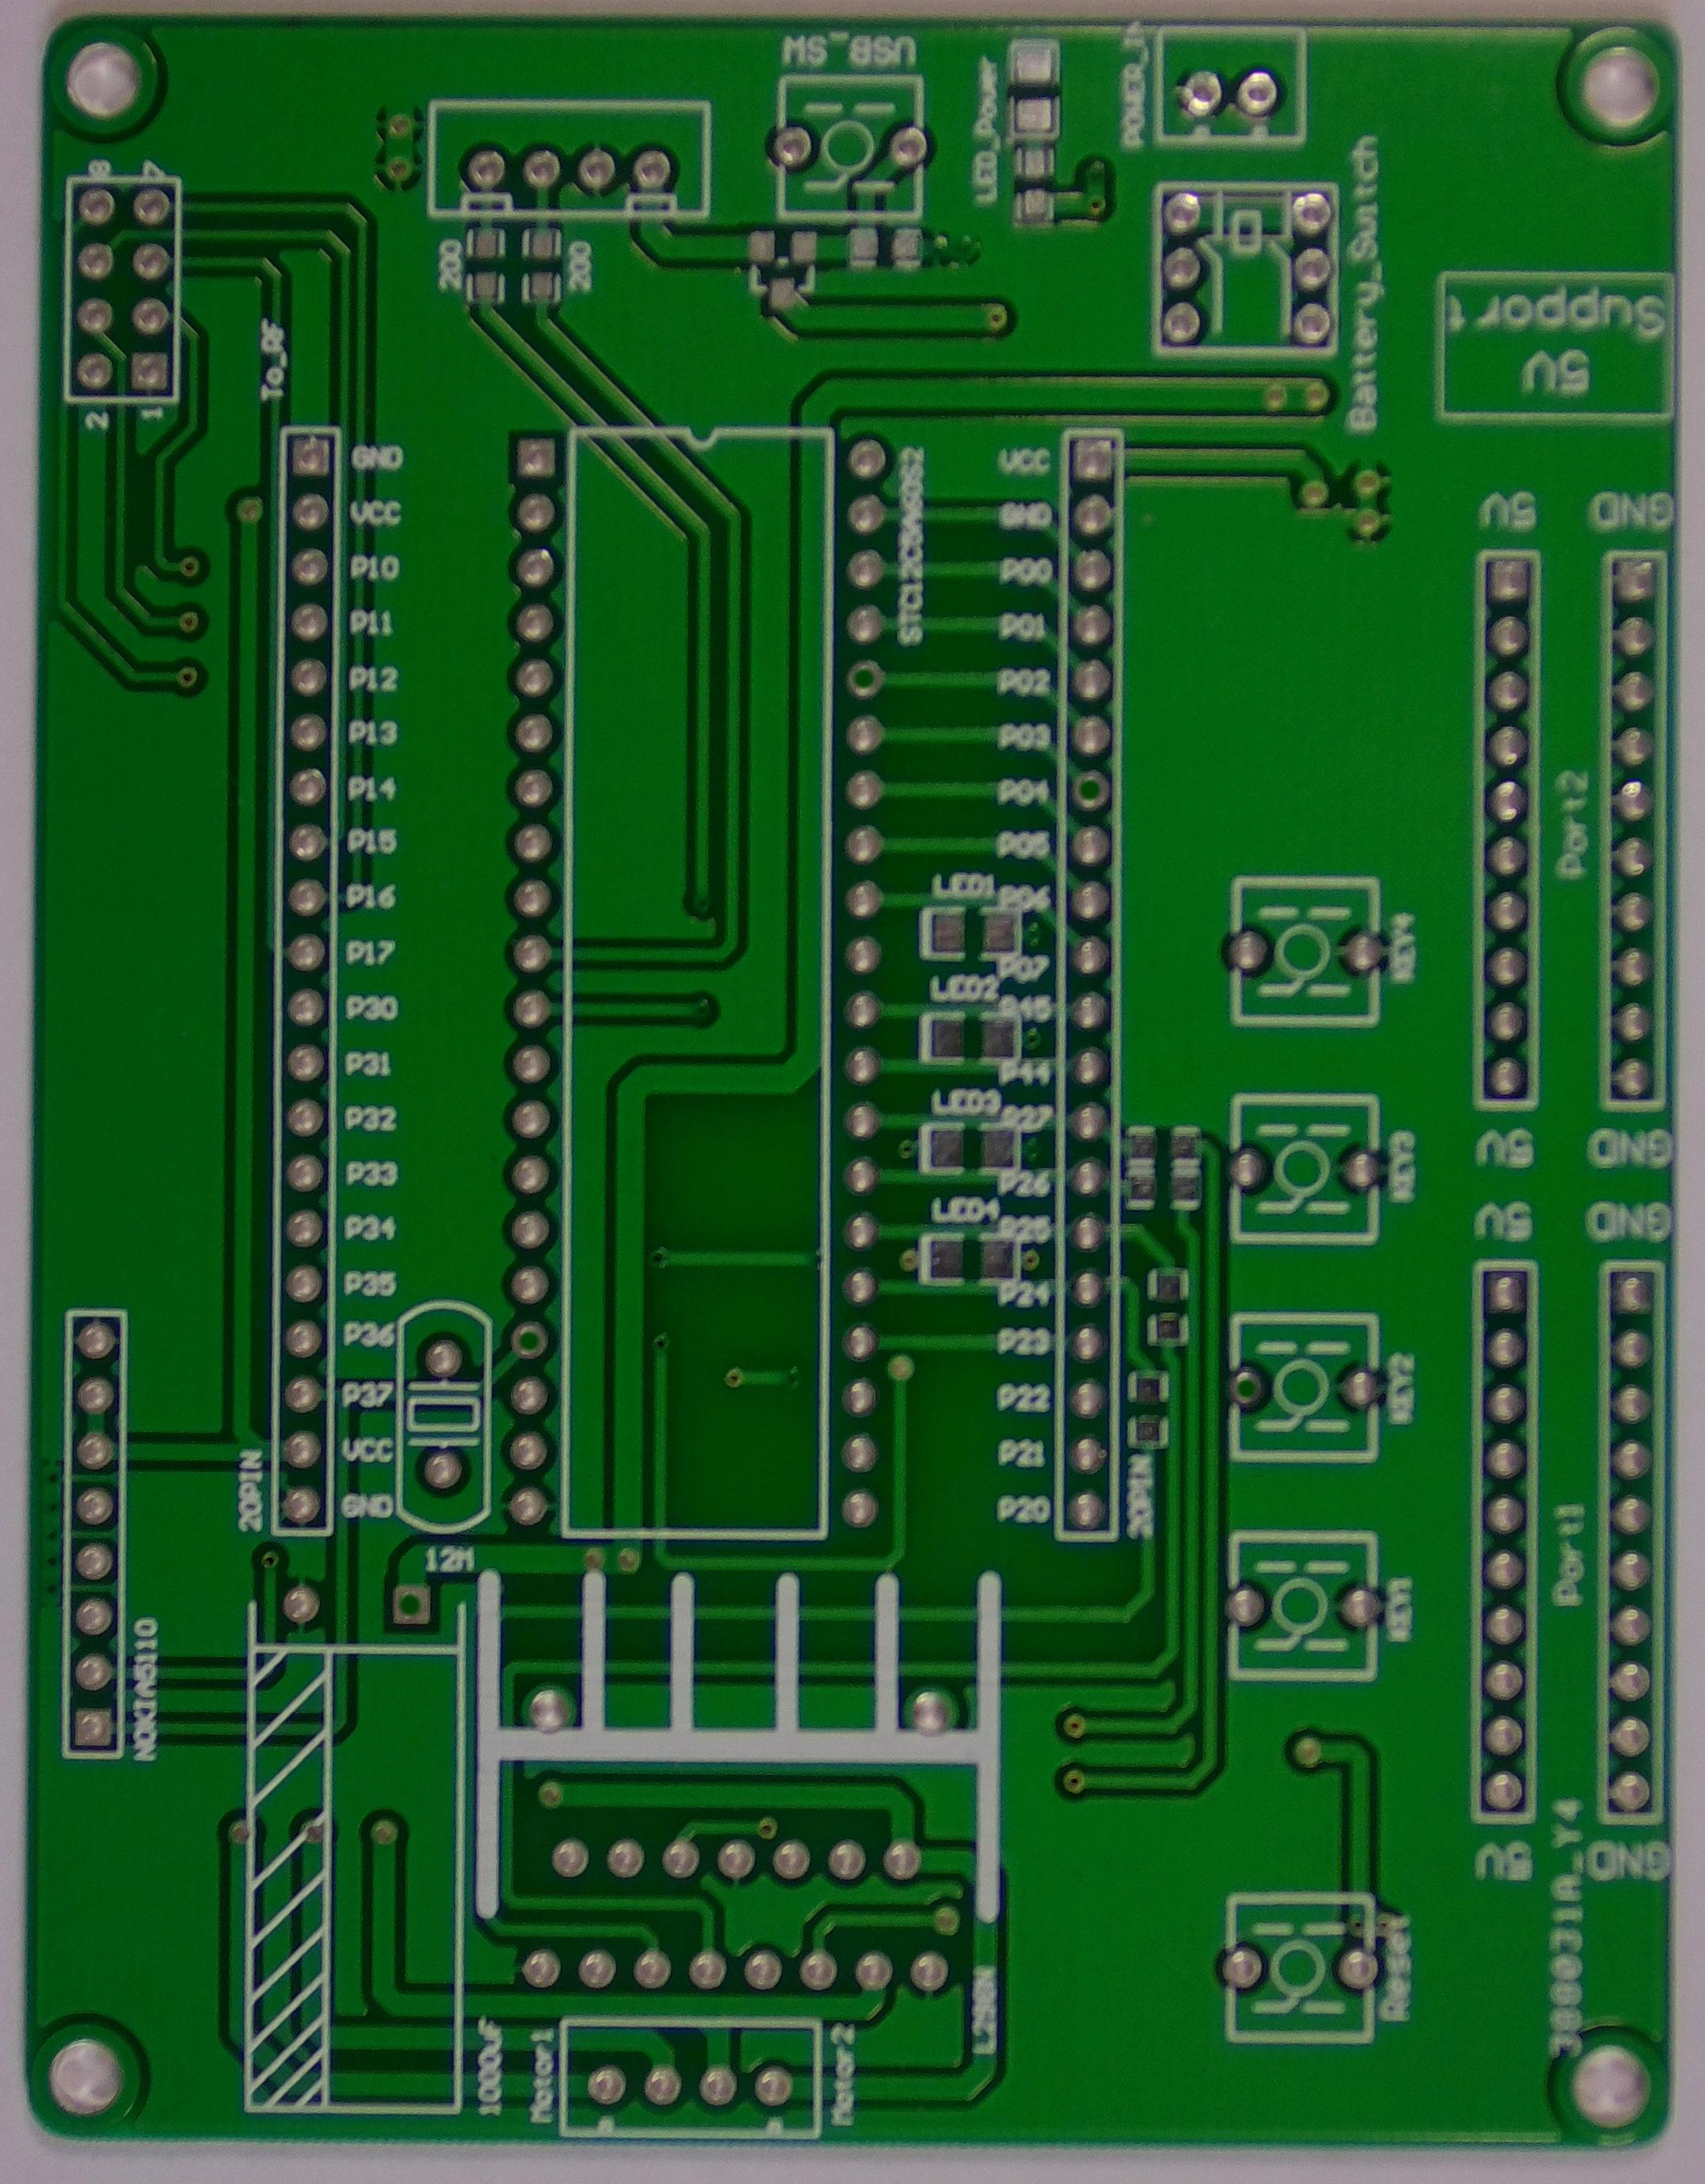missing_hole: (1216, 1360, 1273, 1423), (388, 1578, 440, 1640), (1063, 766, 1117, 814), (503, 1324, 562, 1365), (842, 651, 881, 700)
